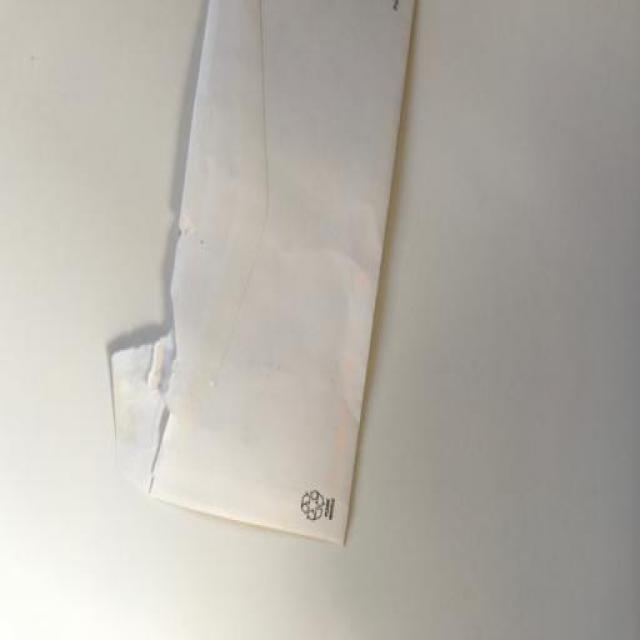paper: (111, 1, 417, 640)
